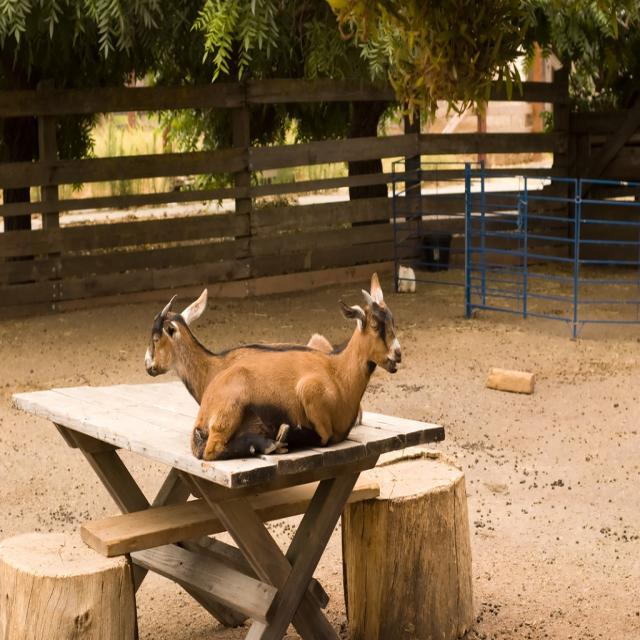Goat: (189, 271, 402, 461)
